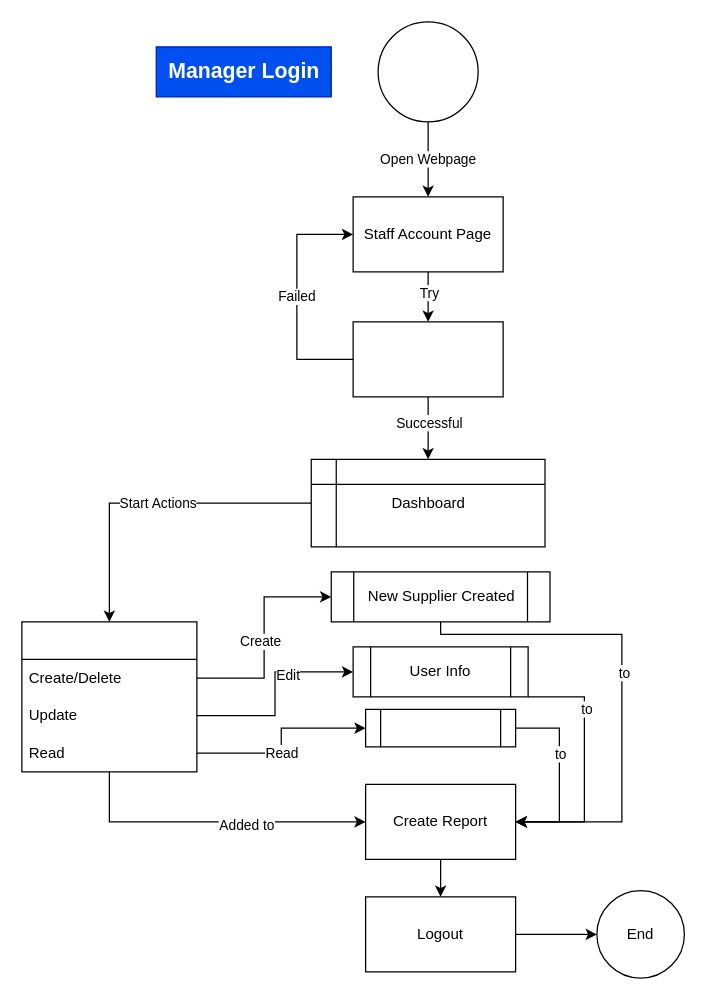
The diagram is 706 pixels wide and 1000 high, and some of its shapes have lost their labels. Each missing label, with the box of its shape:
LogIn: (352, 321, 503, 397)
Operations: (21, 621, 197, 772)
Sales: (364, 708, 516, 747)
Start: (377, 21, 478, 122)
